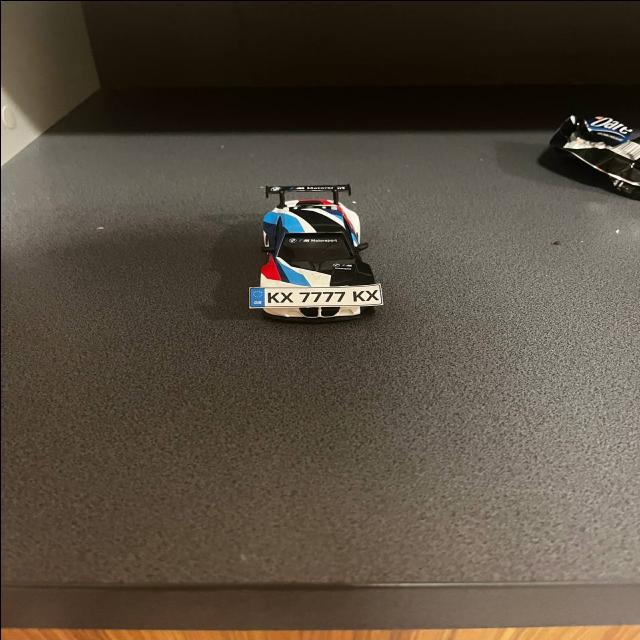cars: (246, 179, 388, 325)
